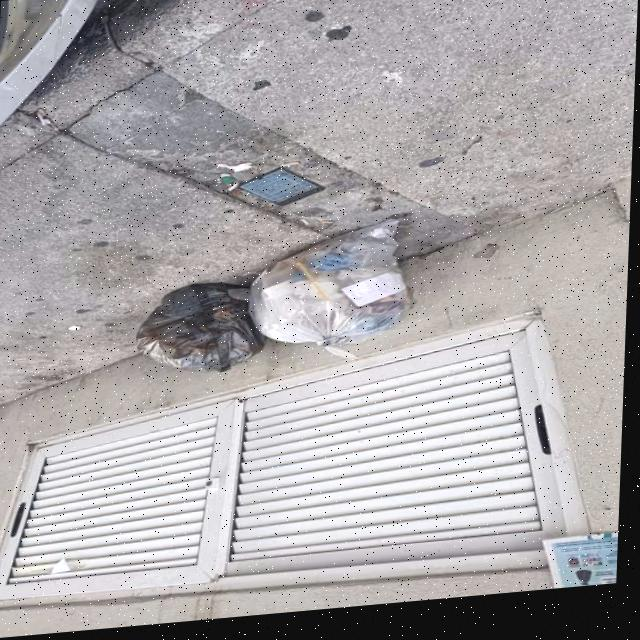Mixed Waste -Black Bag-: (136, 282, 270, 383)
Recycled Waste -Grey or Green Bag-: (247, 222, 417, 375)
